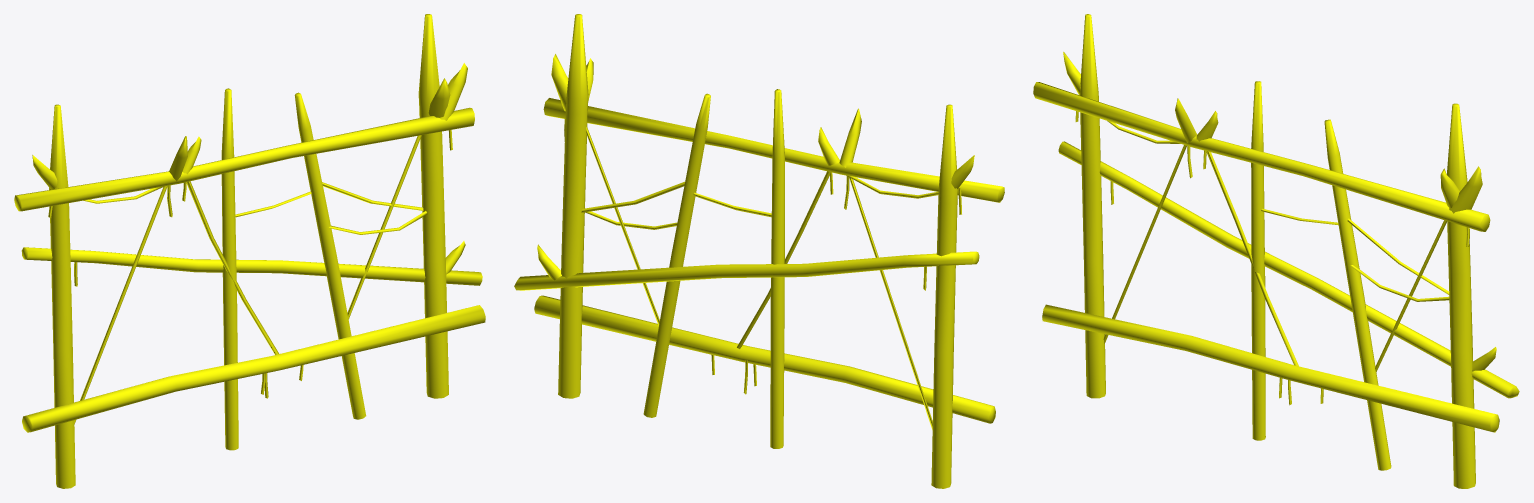
The model's file is camp_redthief_fence_00.glb.
3 views of the same model, side by side, from view 1: azimuth 30°, elevation 25°; view 2: azimuth 150°, elevation 25°; view 3: azimuth 330°, elevation 25° (orthographic).
Parts seen in each view (by area): view 1: camp_redthief_build_08; view 2: camp_redthief_build_08; view 3: camp_redthief_build_08.
Part boxes in pixels (x1,y1,x2,y2): camp_redthief_build_08: (14,14,485,488); camp_redthief_build_08: (514,14,1004,488); camp_redthief_build_08: (1033,14,1519,488).
Bounding box in the file's own units: 15.86 × 12.26 × 1.49.
1 material, 1 textured.
